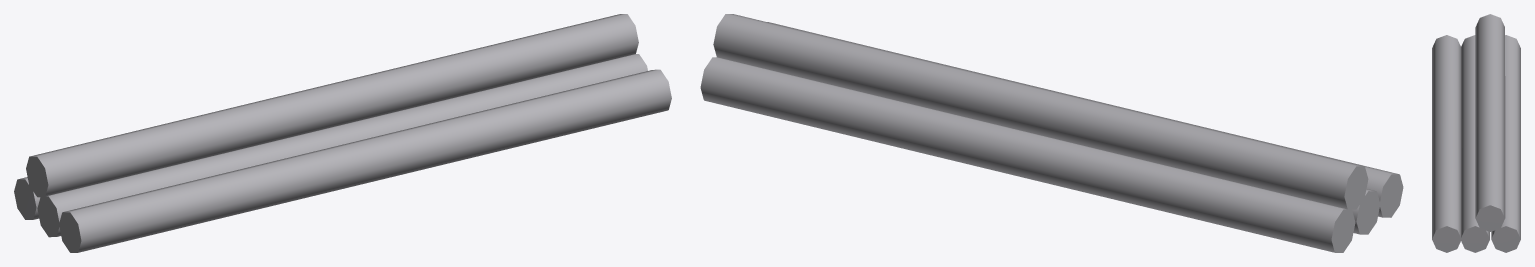
File: Glue_gun_rods.fbx
3 views of the same model, side by side, from view 1: azimuth 30°, elevation 25°; view 2: azimuth 150°, elevation 25°; view 3: azimuth 270°, elevation 25° (orthographic). The views are drawn at different scales.
Parts seen in each view (by area): view 1: Glue_gun_rods; view 2: Glue_gun_rods; view 3: Glue_gun_rods.
Part boxes in pixels (x1,y1,x2,y2): Glue_gun_rods: [14, 14, 671, 252]; Glue_gun_rods: [700, 14, 1403, 252]; Glue_gun_rods: [1432, 14, 1520, 252].
Bounding box in the file's own units: 24.31 × 4.81 × 2.91.
